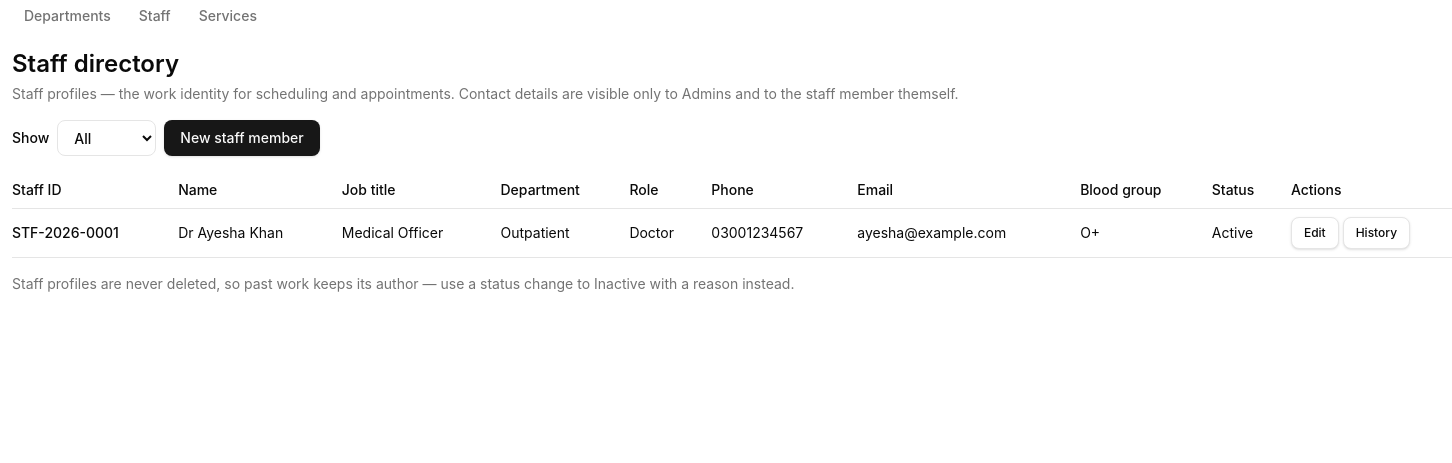
StaffPage › shows the status history for a staff member
Click the button "History" at coordinates (1376, 233), box [1343, 217, 1410, 249]
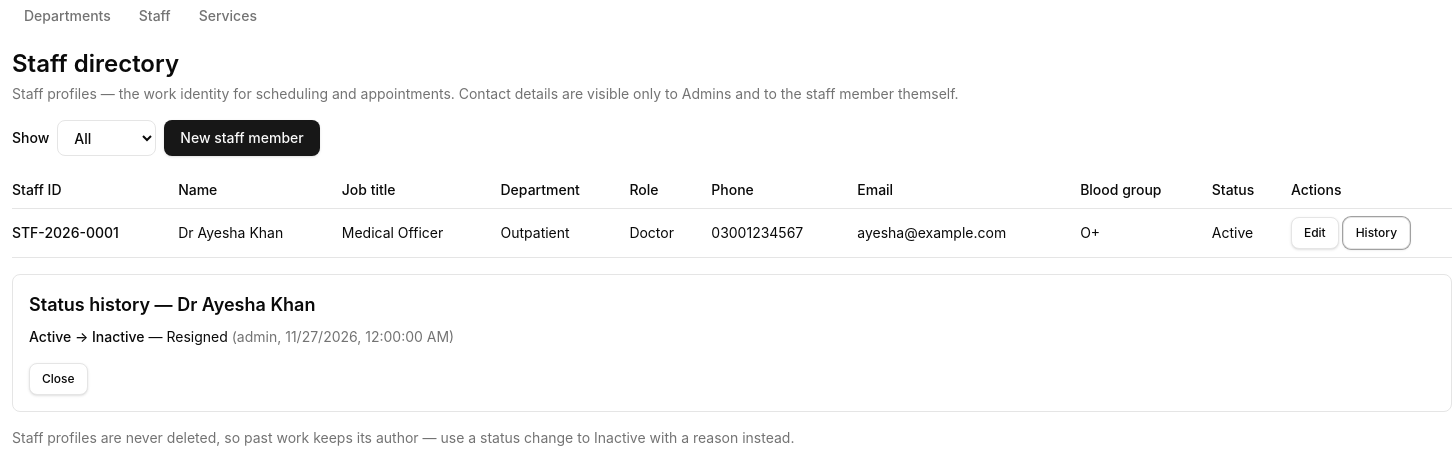
Expected: the list item "Resigned" is shown, [166, 328, 228, 345]
Expected: the text "Active → Inactive" is shown, [29, 328, 145, 345]
